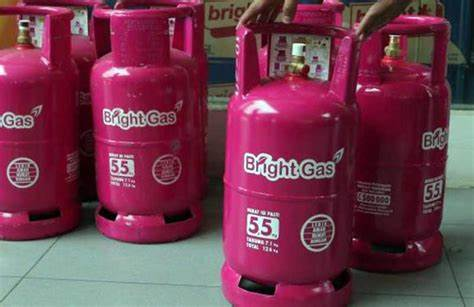bright_gas: (223, 20, 352, 307), (335, 14, 451, 273), (91, 2, 208, 242), (1, 5, 80, 240)
